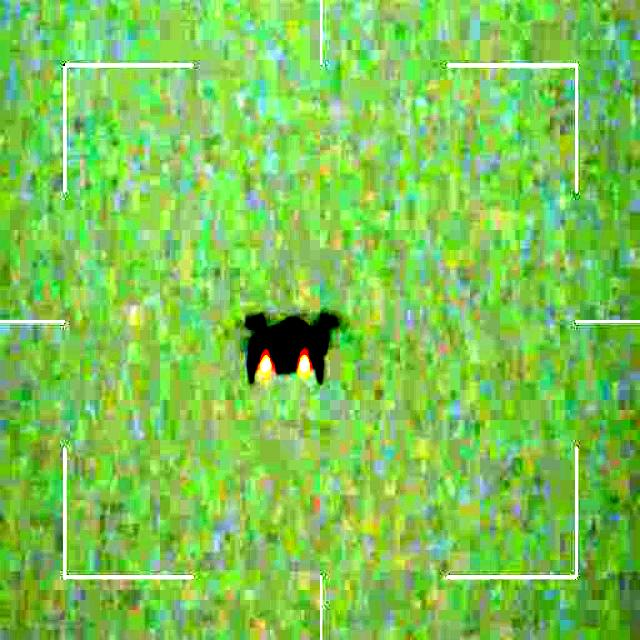bird: (239, 309, 341, 381)
